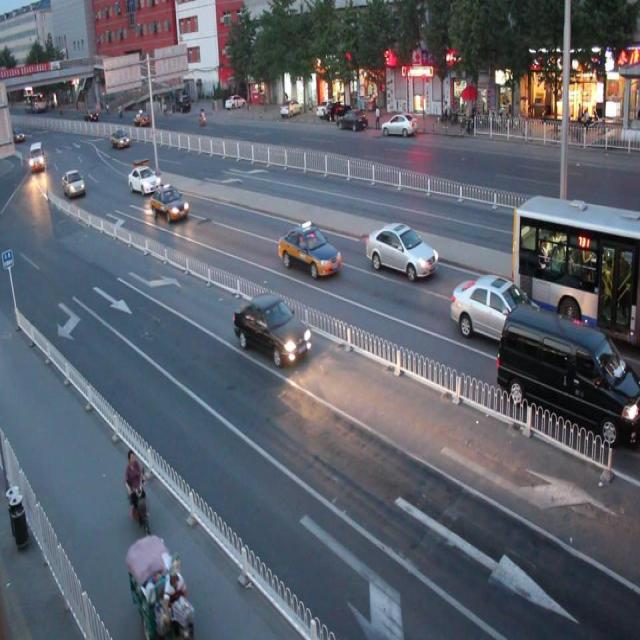car: (450, 270, 545, 346), (232, 291, 311, 364), (364, 223, 438, 282), (278, 220, 341, 280), (152, 185, 188, 220), (129, 165, 162, 193)
truck: (496, 300, 640, 446)
van: (510, 193, 640, 350)
